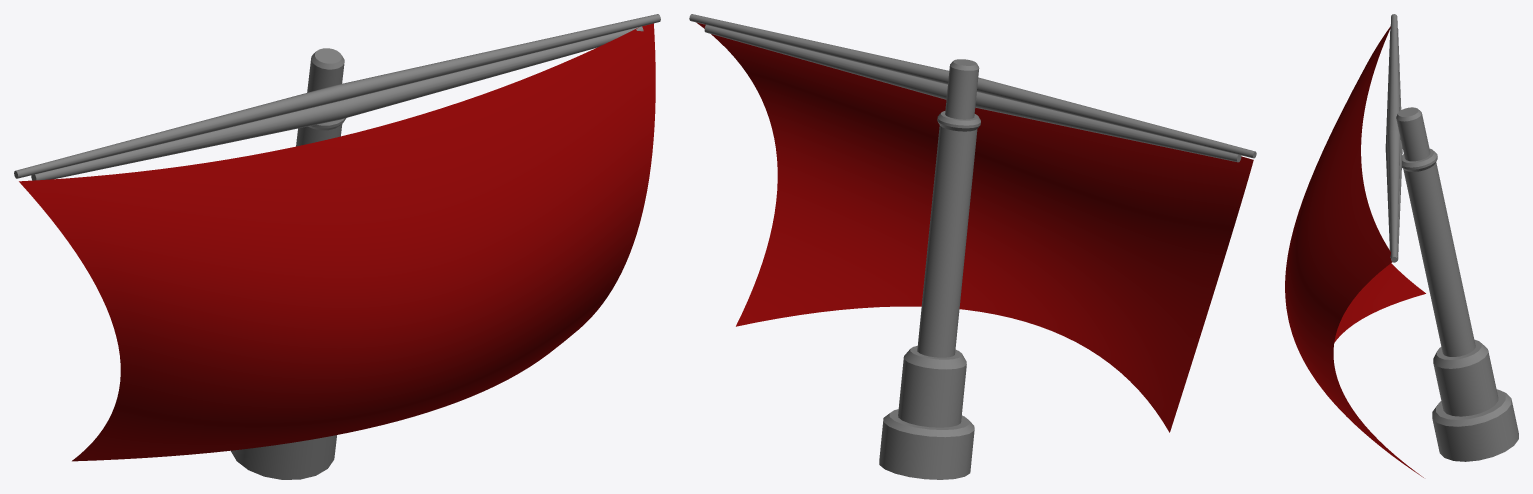
Rendered from MastStern.fbx.
The picture shows the model from 3 angles, left to right: view 1: azimuth 30°, elevation 25°; view 2: azimuth 150°, elevation 25°; view 3: azimuth 270°, elevation 25°; orthographic projection. The views are drawn at different scales.
Visible parts, largest first — view 1: Cylinder003; view 2: Cylinder003; view 3: Cylinder003.
Boxes of the visible parts, x1,y1,x2,y2 form: Cylinder003: [14, 14, 660, 479]; Cylinder003: [689, 14, 1256, 479]; Cylinder003: [1285, 14, 1518, 477].
Size of the model in its own units: 26.39 by 17.22 by 10.74.
